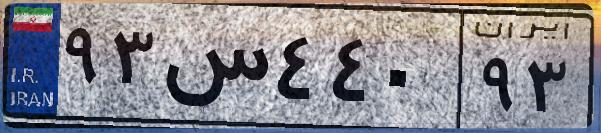0: (385, 28, 445, 110)
3: (525, 38, 570, 115), (110, 28, 158, 98)
4: (270, 28, 330, 110), (330, 28, 385, 110)
9: (57, 26, 110, 100), (475, 38, 525, 113)
س: (158, 20, 270, 120)
